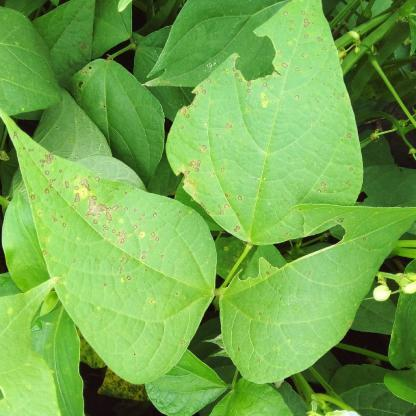Beans_Angular_LeafSpot: (6, 122, 210, 386), (167, 5, 361, 243), (221, 208, 401, 378)
